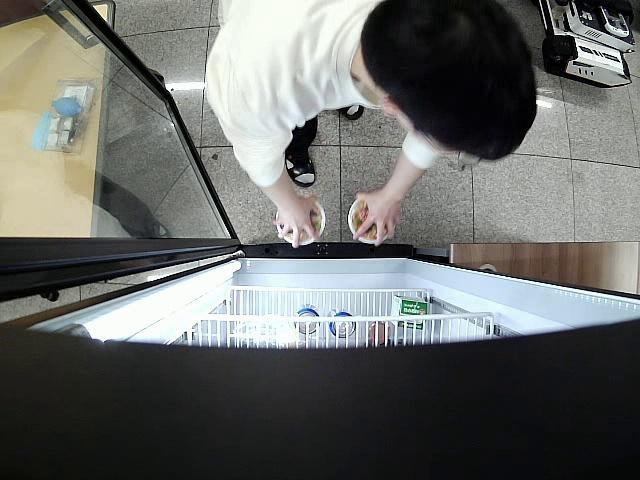09_yukGaeJang: (276, 202, 326, 245), (347, 198, 392, 244)
